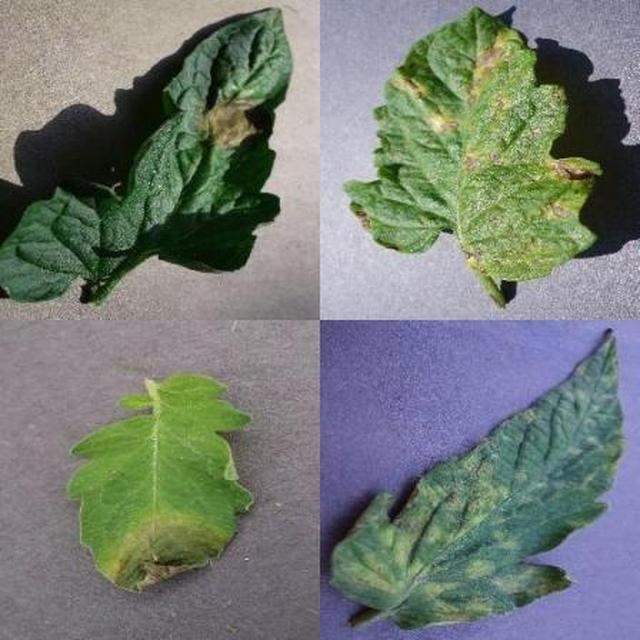Late Blight Leaf: (210, 204, 640, 640)
